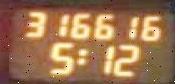1: (102, 42, 113, 77), (57, 13, 67, 35), (127, 14, 135, 39)
2: (115, 43, 137, 77)
3: (25, 11, 44, 37)
5: (49, 40, 70, 74)
6: (70, 10, 89, 38), (93, 12, 112, 38), (140, 14, 159, 40)
X: (75, 46, 89, 67)
